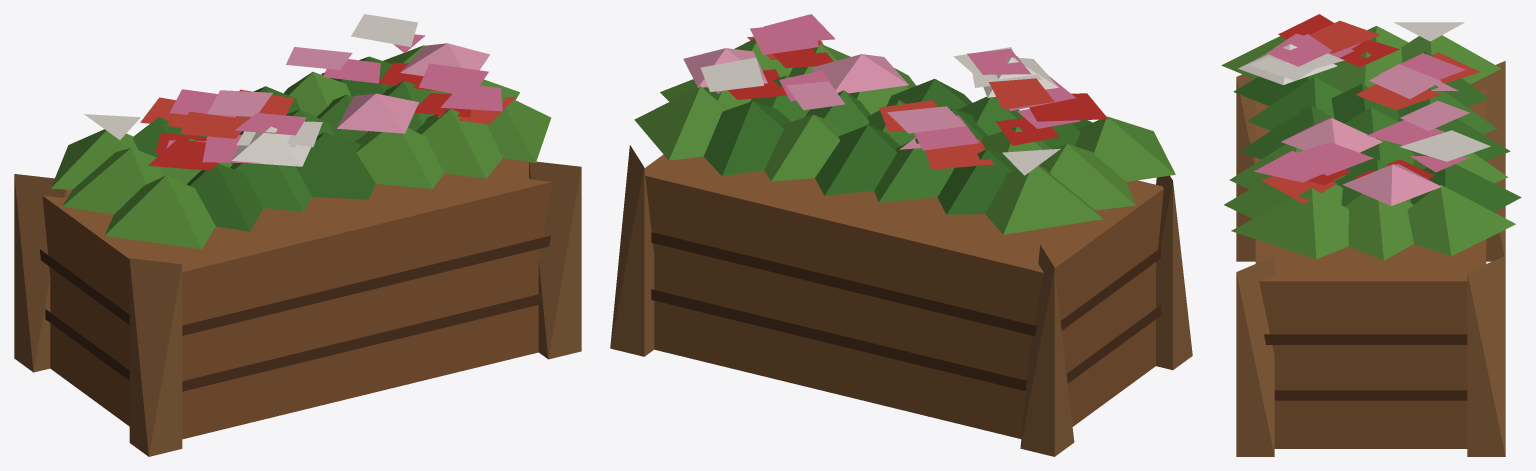
File: town_planter-lod1.glb
3 renders of one model, left to right at view 1: azimuth 30°, elevation 25°; view 2: azimuth 150°, elevation 25°; view 3: azimuth 270°, elevation 25°, orthographic. The views are drawn at different scales.
Visible parts, largest first — view 1: town_planter; view 2: town_planter; view 3: town_planter.
Part boxes in pixels (left/top/right/bottom): town_planter: left=14, top=14, right=581, bottom=456; town_planter: left=610, top=14, right=1192, bottom=456; town_planter: left=1221, top=14, right=1521, bottom=456.
Bounding box in the file's own units: 1.38 × 0.7868 × 0.7813.
